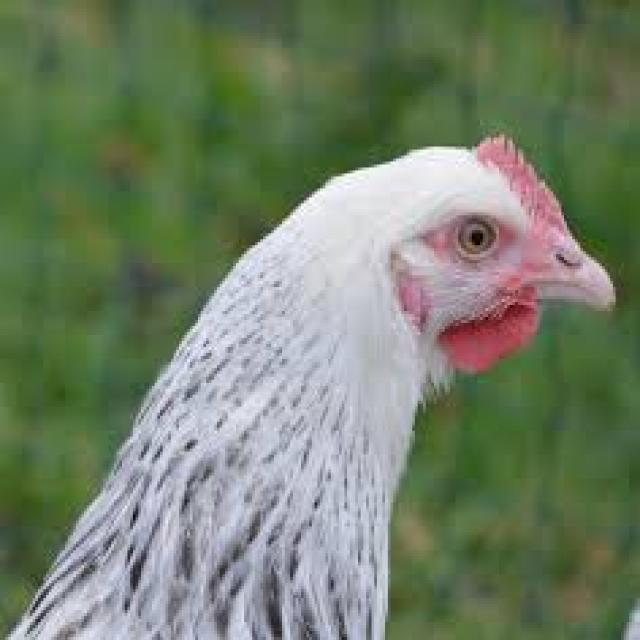Chicken: (35, 100, 618, 640)
